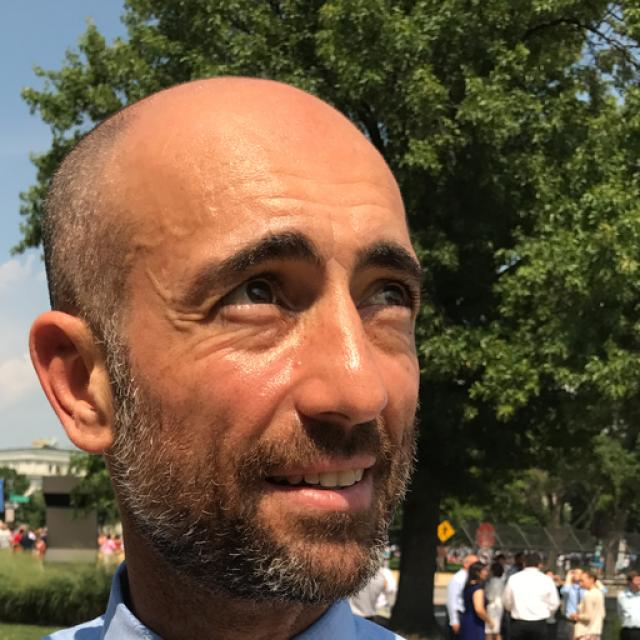Acne: (288, 356, 308, 368)
Wrinkle: (233, 190, 397, 211), (268, 167, 398, 188)
